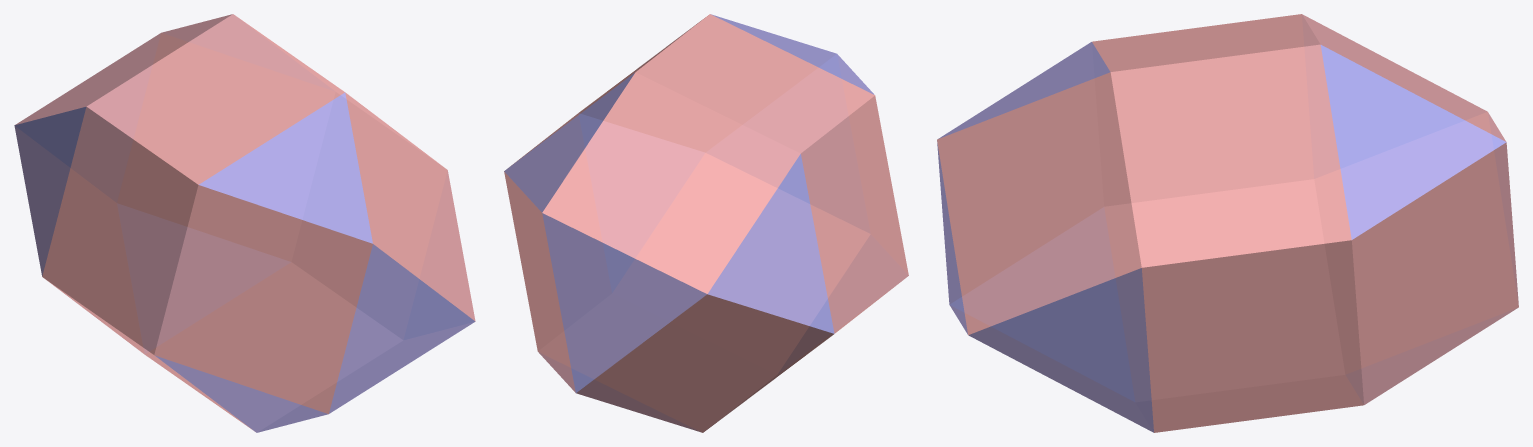
Rendered from j36_elongated_triangular_gyrobicupola.obj.
The picture shows the model from 3 angles, left to right: view 1: azimuth 30°, elevation 25°; view 2: azimuth 150°, elevation 25°; view 3: azimuth 270°, elevation 25°; orthographic projection. The views are drawn at different scales.
Size of the model in its own units: 1.64 by 1.64 by 2.22.
